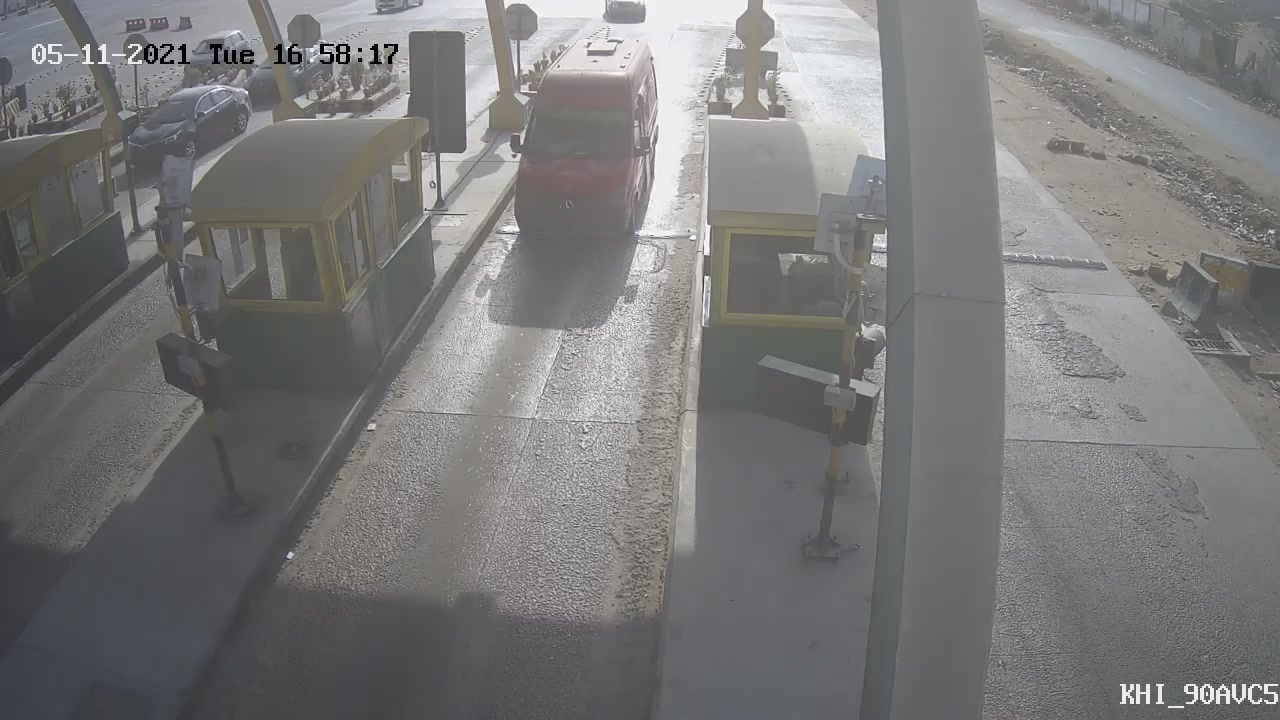F2: (490, 17, 674, 264)
